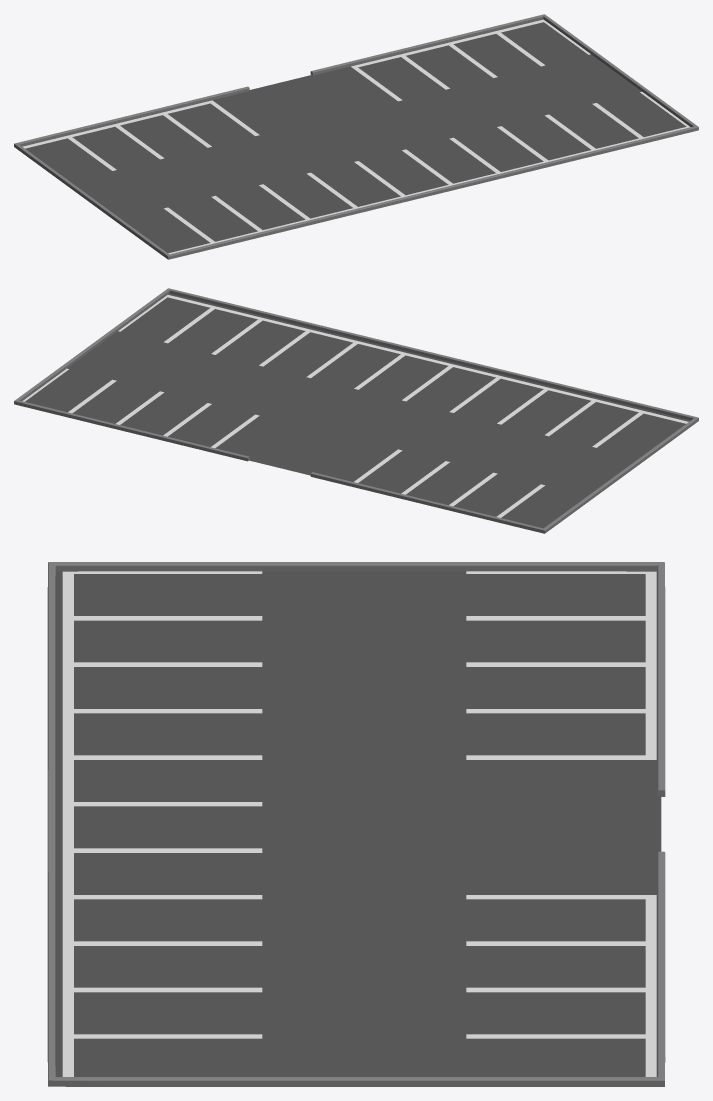
The model's file is ParkingBG_01.fbx.
3 renders of one model, top to bottom at view 1: azimuth 30°, elevation 25°; view 2: azimuth 150°, elevation 25°; view 3: azimuth 270°, elevation 25°, orthographic. The views are drawn at different scales.
Visible parts, largest first — view 1: ParkingBG_01; view 2: ParkingBG_01; view 3: ParkingBG_01.
Boxes of the visible parts, x1=… form: ParkingBG_01: x1=14, y1=14, x2=698, y2=259; ParkingBG_01: x1=14, y1=288, x2=698, y2=533; ParkingBG_01: x1=47, y1=562, x2=665, y2=1086.
Bounding box in the file's own units: 2415 × 15 × 1216.
